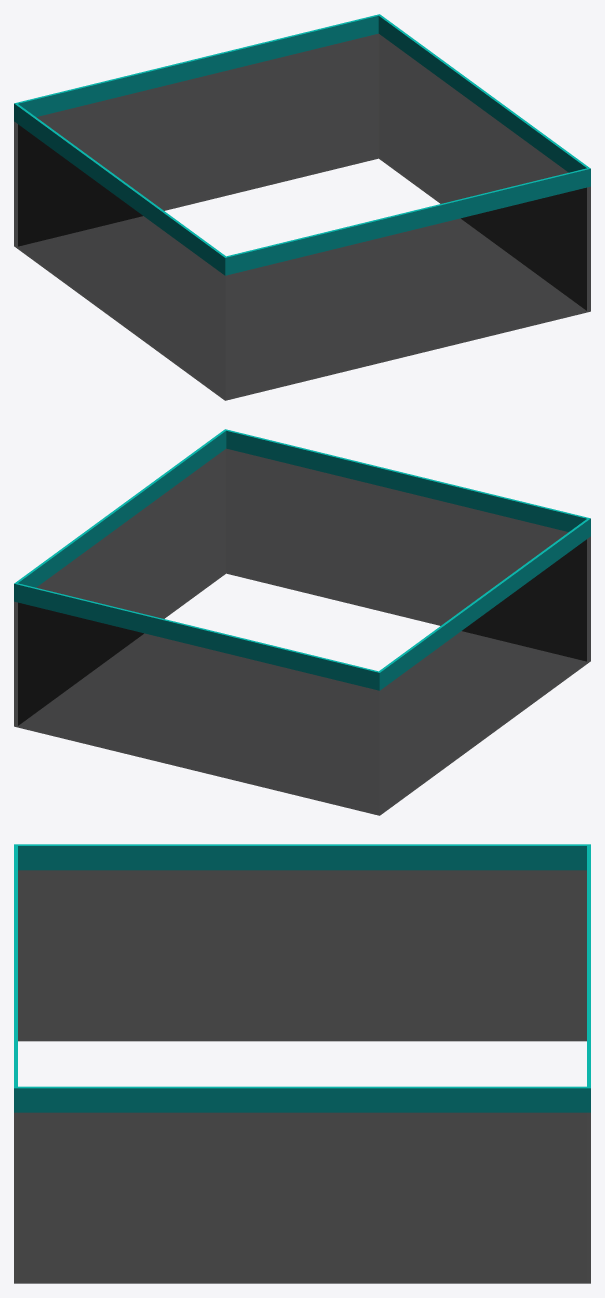
The model's file is SG4 Green Glass.glb.
3 renders of one model, top to bottom at view 1: azimuth 30°, elevation 25°; view 2: azimuth 150°, elevation 25°; view 3: azimuth 270°, elevation 25°, orthographic. The views are drawn at different scales.
Visible parts, largest first — view 1: SG-4-Wall.Closed; view 2: SG-4-Wall.Closed; view 3: SG-4-Wall.Closed.
Boxes of the visible parts, left/top/right/bottom form: SG-4-Wall.Closed: left=14, top=14, right=590, bottom=400; SG-4-Wall.Closed: left=14, top=429, right=590, bottom=815; SG-4-Wall.Closed: left=14, top=844, right=590, bottom=1283.
Size of what is drawn, in the model's own units: 15 by 5.6 by 15.
Materials: 2 (1 with a texture image).
